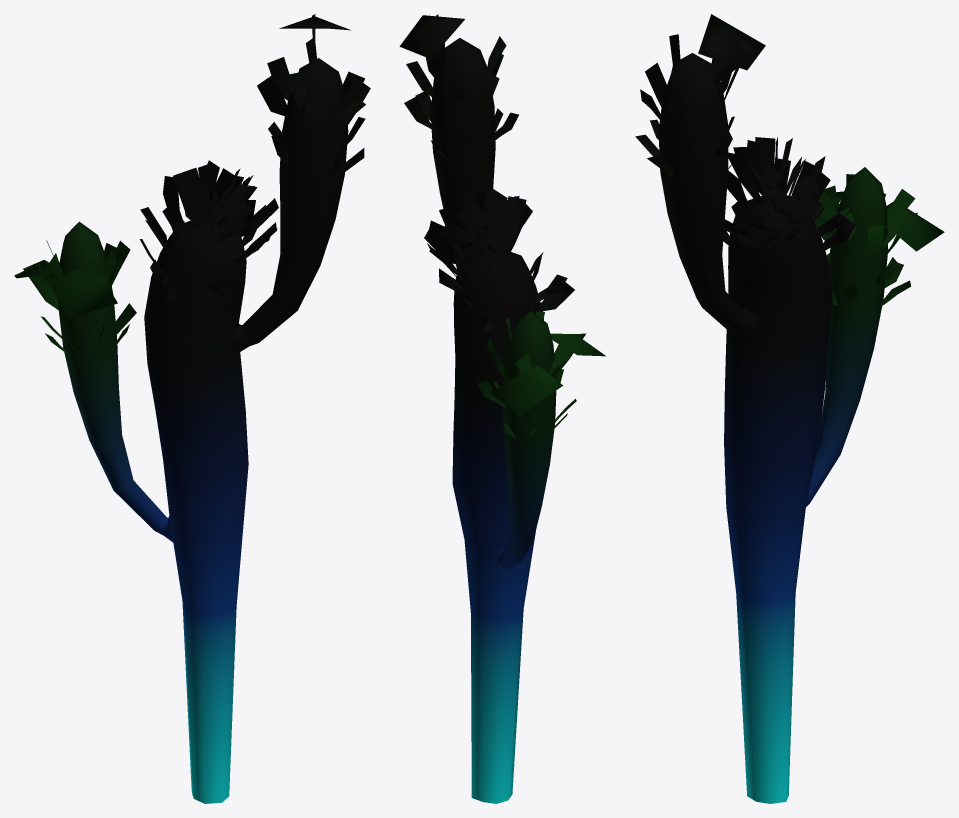
File: Saguaro2.fbx
3 renders of one model, left to right at view 1: azimuth 30°, elevation 25°; view 2: azimuth 150°, elevation 25°; view 3: azimuth 270°, elevation 25°, orthographic. The views are drawn at different scales.
Parts seen in each view (by area): view 1: Saguaro2_LOD0; view 2: Saguaro2_LOD0; view 3: Saguaro2_LOD0.
Part boxes in pixels (x1,y1,x2,y2): Saguaro2_LOD0: (14, 14, 370, 803); Saguaro2_LOD0: (399, 14, 605, 803); Saguaro2_LOD0: (635, 14, 944, 803).
Size of what is drawn, in the model's own units: 178 by 518 by 179.
